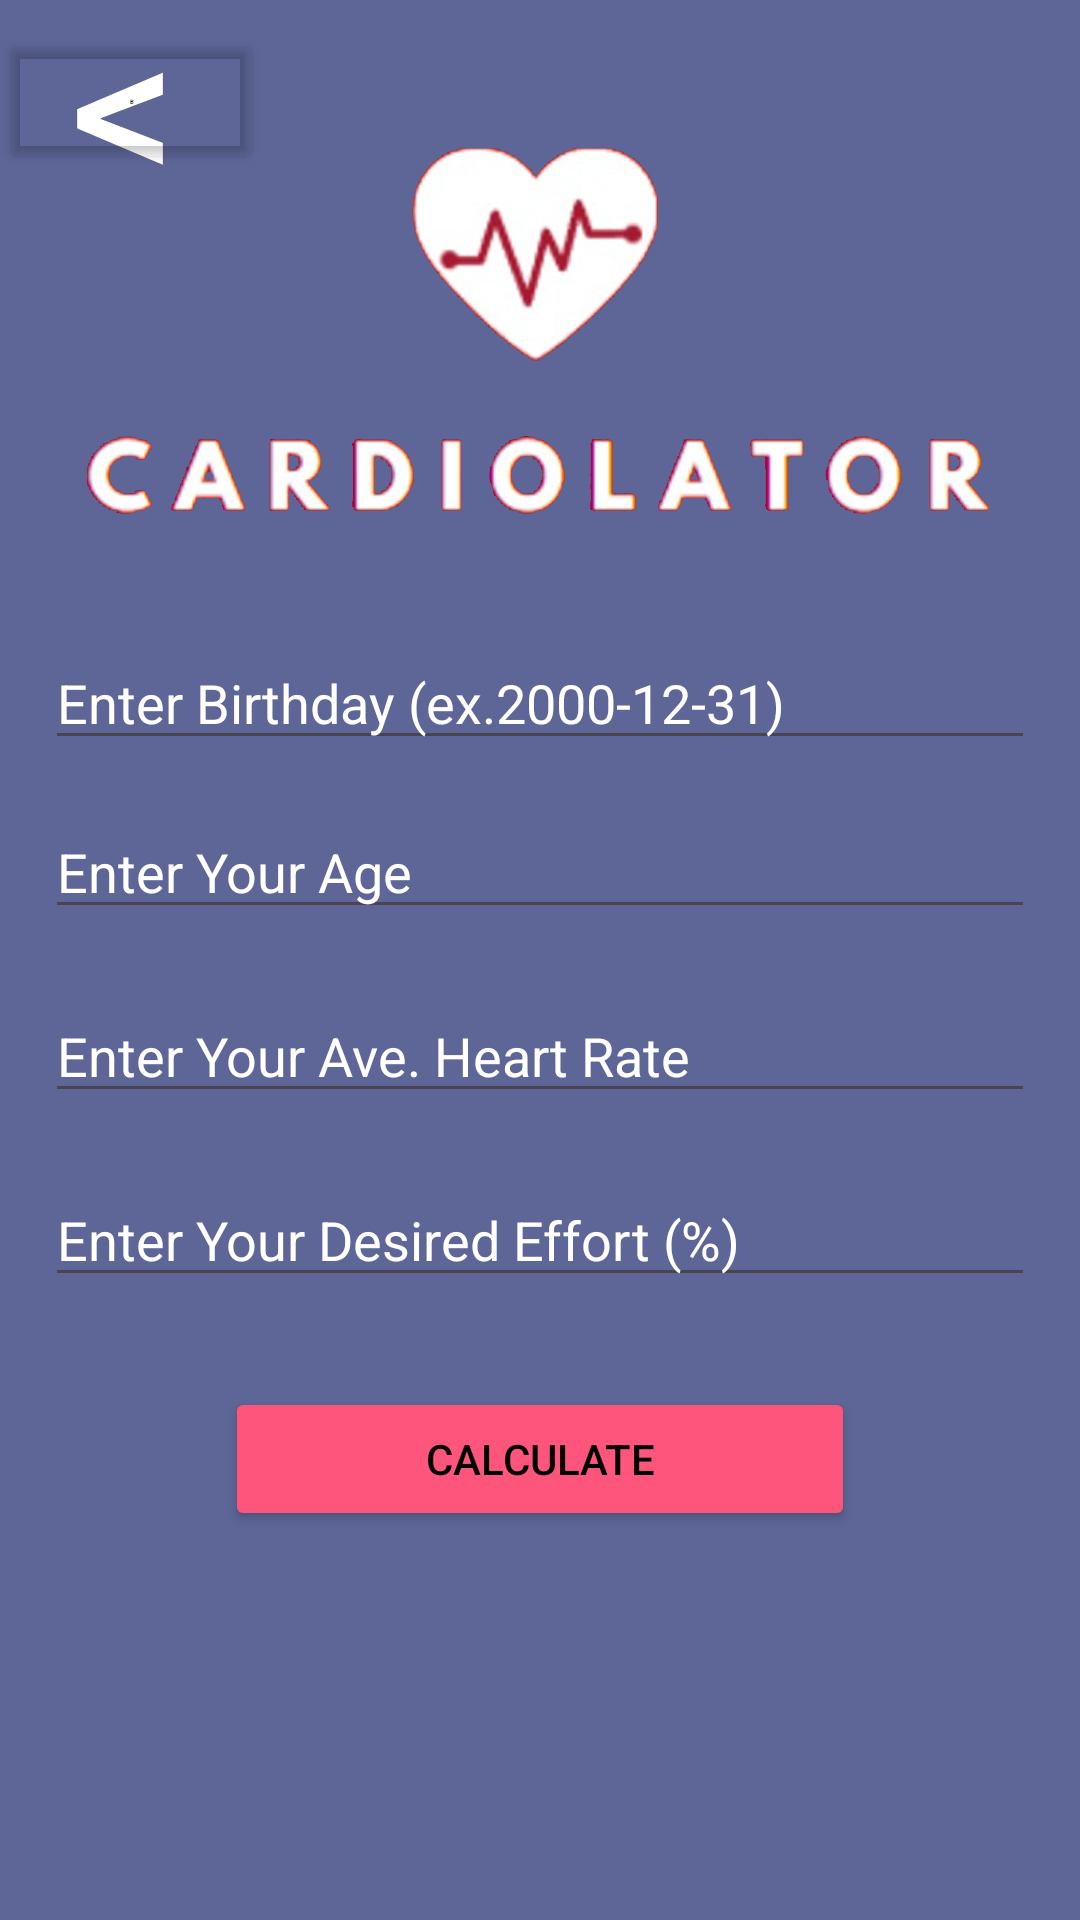

Named icons in this screenshot (1080w x 1920h) and their centers, [x,y]:
less than sign: [120,110]
